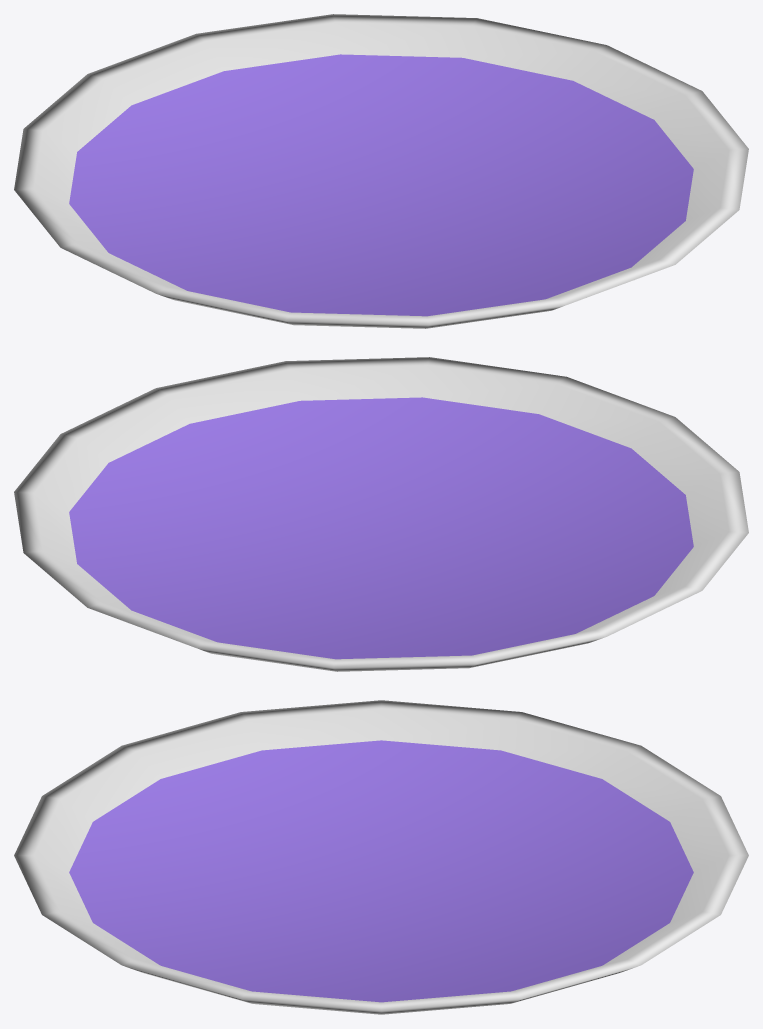
File: Tray01.fbx
3 views of the same model, one above another, from view 1: azimuth 30°, elevation 25°; view 2: azimuth 150°, elevation 25°; view 3: azimuth 270°, elevation 25° (orthographic).
Parts seen in each view (by area): view 1: Circle; view 2: Circle; view 3: Circle.
Boxes of the visible parts, x1,y1,x2,y2 form: Circle: [14, 14, 748, 328]; Circle: [14, 357, 748, 671]; Circle: [14, 700, 748, 1014].
Bounding box in the file's own units: 126 × 3.19 × 126.
